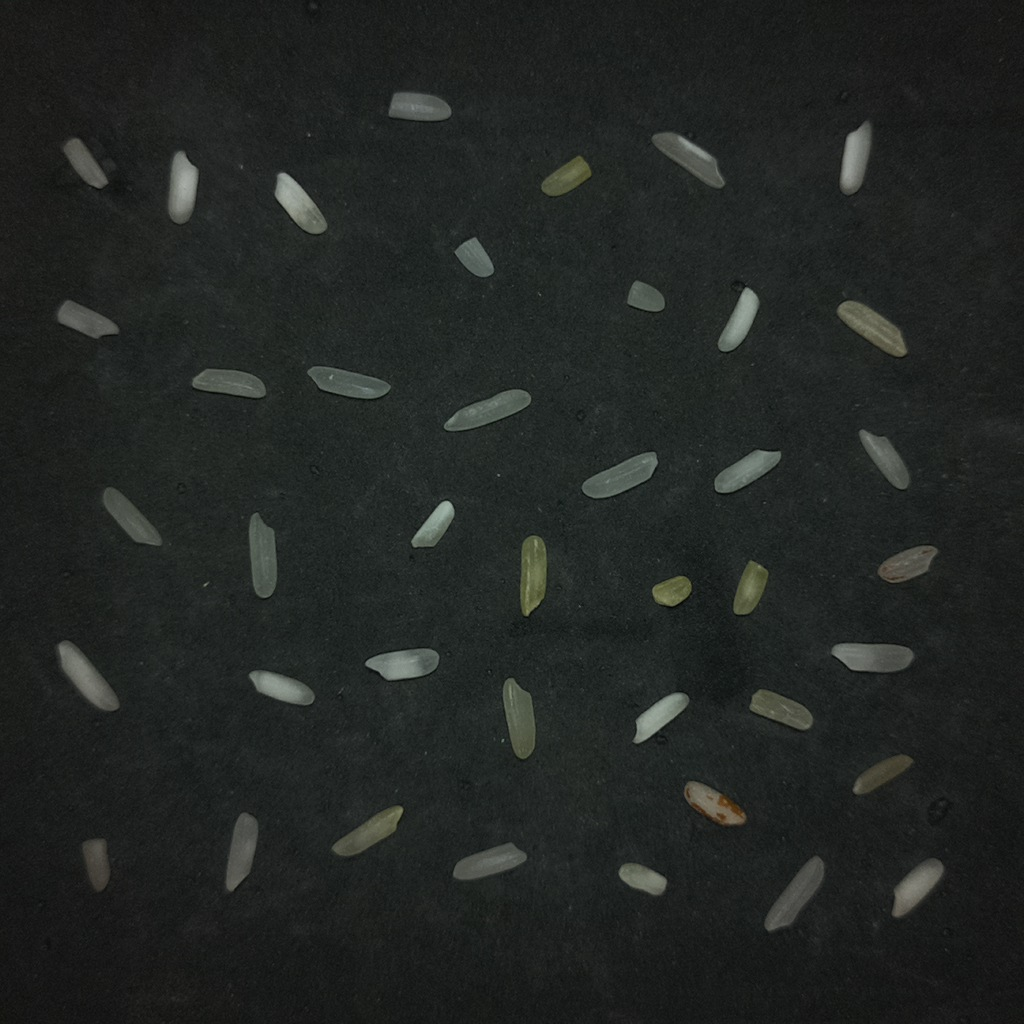broken: (633, 692, 689, 743), (56, 300, 119, 338), (62, 137, 108, 188), (520, 536, 547, 616), (388, 91, 451, 121), (618, 862, 666, 896), (454, 236, 493, 277), (81, 839, 110, 892), (627, 280, 665, 312)
chalky: (56, 640, 119, 711), (275, 172, 326, 234), (891, 858, 944, 917), (714, 449, 782, 494), (717, 288, 759, 352), (839, 120, 872, 194), (364, 648, 438, 680), (249, 670, 314, 705), (167, 151, 198, 224), (411, 500, 455, 548)
discolored: (836, 300, 907, 357), (332, 805, 404, 857), (502, 677, 535, 759), (749, 689, 812, 730), (852, 754, 912, 794), (541, 156, 592, 197), (733, 561, 768, 615), (652, 576, 691, 606)
red: (684, 781, 746, 825), (877, 545, 937, 583)
whole: (764, 856, 824, 931), (651, 132, 724, 188), (443, 389, 531, 431), (582, 452, 657, 498), (102, 487, 161, 545), (859, 429, 909, 489), (307, 366, 390, 399), (453, 843, 526, 880), (225, 812, 257, 891), (831, 642, 913, 672), (248, 513, 276, 598), (191, 368, 265, 398)
